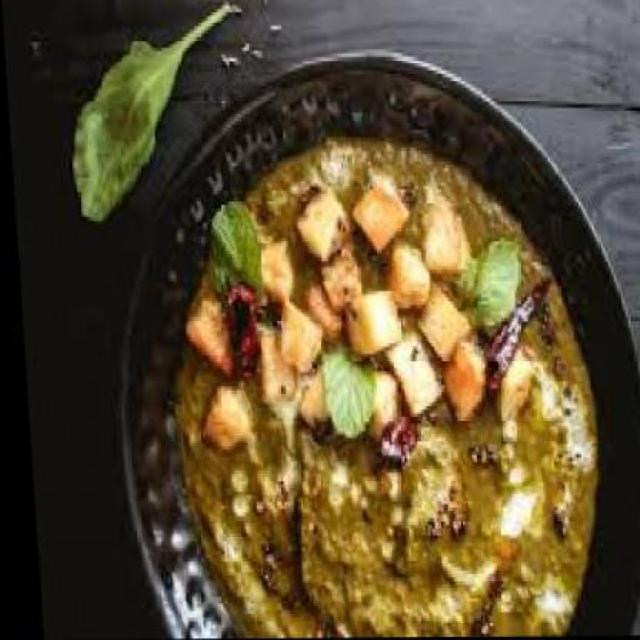palakpaneer: (153, 140, 601, 640)
